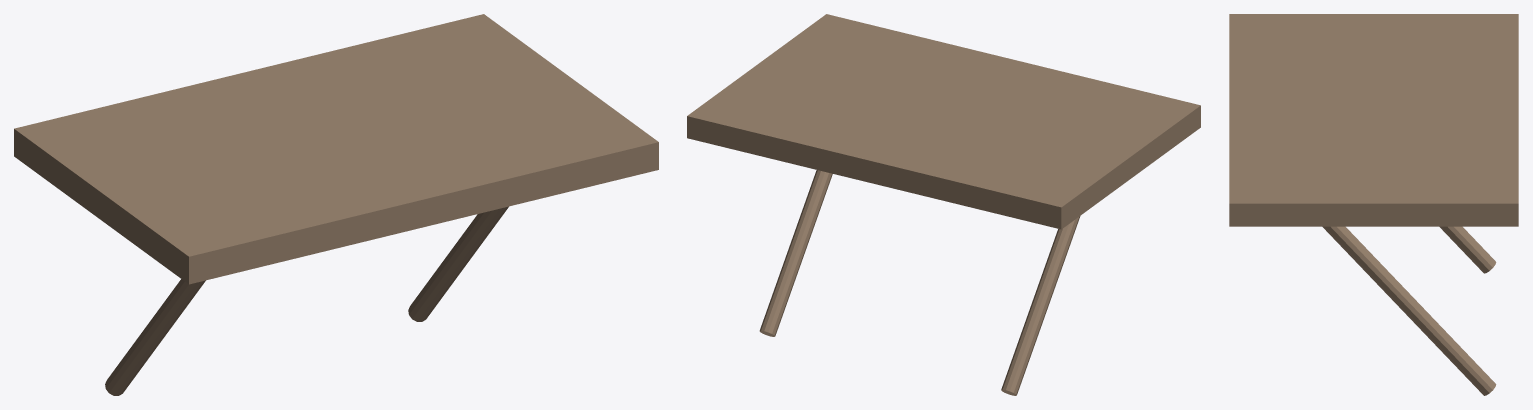
File: VH-BOARD.glb
3 renders of one model, left to right at view 1: azimuth 30°, elevation 25°; view 2: azimuth 150°, elevation 25°; view 3: azimuth 270°, elevation 25°, orthographic. The views are drawn at different scales.
Visible parts, largest first — view 1: folding_board, brace (×2); view 2: folding_board, brace (×2); view 3: folding_board, brace (×2).
Boxes of the visible parts, left/top/right/bottom form: folding_board: left=14, top=14, right=658, bottom=284; brace (×2): left=105, top=206, right=508, bottom=395; folding_board: left=687, top=14, right=1200, bottom=229; brace (×2): left=759, top=170, right=1080, bottom=395; folding_board: left=1229, top=14, right=1518, bottom=226; brace (×2): left=1322, top=226, right=1496, bottom=395.
Bounding box in the file's own units: 0.62 × 0.3429 × 0.4.
